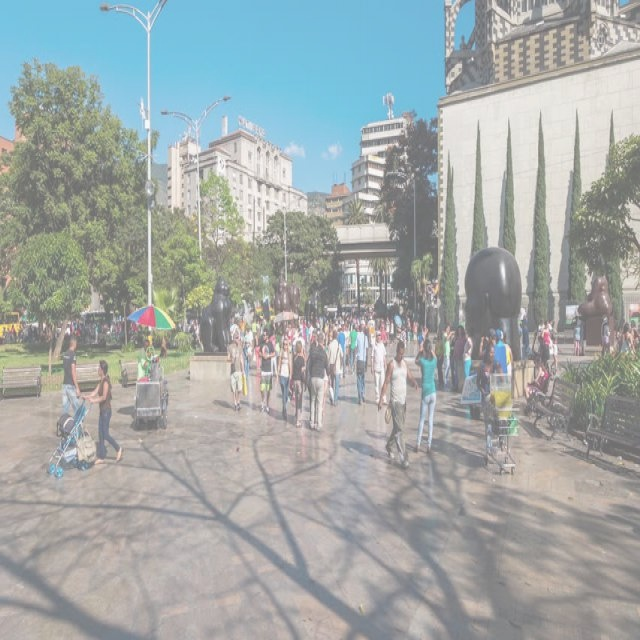pessoa: (376, 338, 419, 471), (80, 357, 124, 467), (475, 338, 505, 462), (411, 334, 438, 456), (474, 322, 514, 402), (60, 331, 83, 446), (308, 331, 330, 434), (258, 326, 278, 414), (318, 306, 356, 351), (226, 330, 246, 412), (370, 328, 390, 407), (0, 314, 56, 342), (352, 321, 370, 407), (381, 314, 429, 346), (326, 328, 345, 408), (68, 316, 124, 343), (271, 266, 301, 314), (276, 334, 292, 422), (228, 310, 268, 344), (290, 338, 305, 428), (305, 340, 318, 428), (354, 304, 381, 346), (441, 320, 456, 393), (267, 320, 297, 353), (614, 317, 640, 353), (174, 318, 202, 351), (296, 310, 318, 350), (454, 324, 466, 391), (518, 313, 530, 375), (536, 316, 554, 355), (322, 337, 330, 419), (462, 327, 474, 380), (434, 328, 444, 391), (572, 314, 586, 358), (530, 353, 548, 387), (532, 356, 550, 386), (348, 322, 358, 370), (253, 325, 262, 375), (450, 331, 458, 386), (241, 342, 253, 378), (600, 315, 611, 353), (540, 318, 552, 351), (140, 336, 151, 370), (550, 336, 559, 372), (363, 346, 371, 374), (600, 313, 605, 356), (129, 318, 139, 336), (344, 348, 350, 367), (147, 329, 153, 344)
